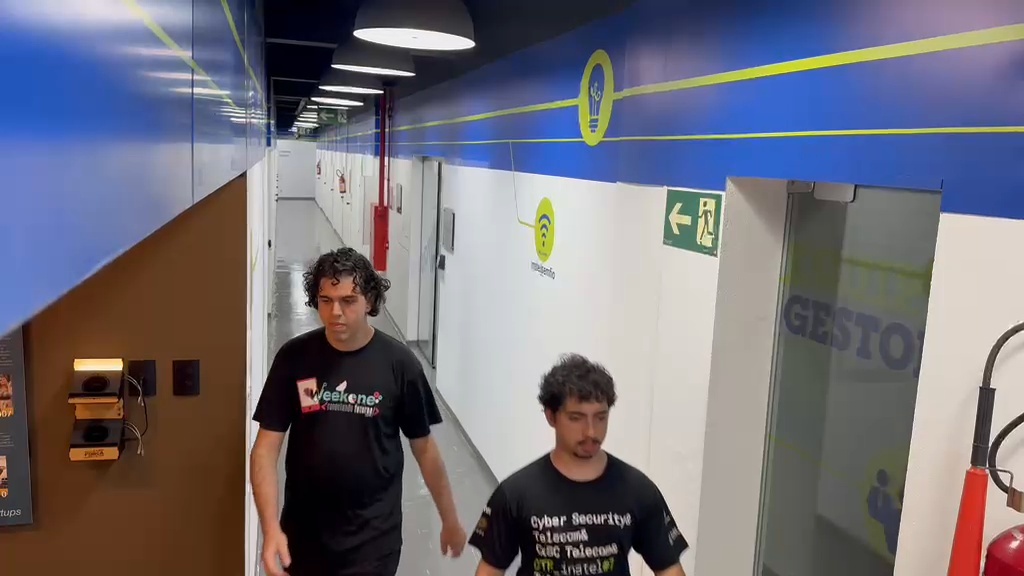person: (248, 246, 468, 572), (468, 353, 690, 573)
